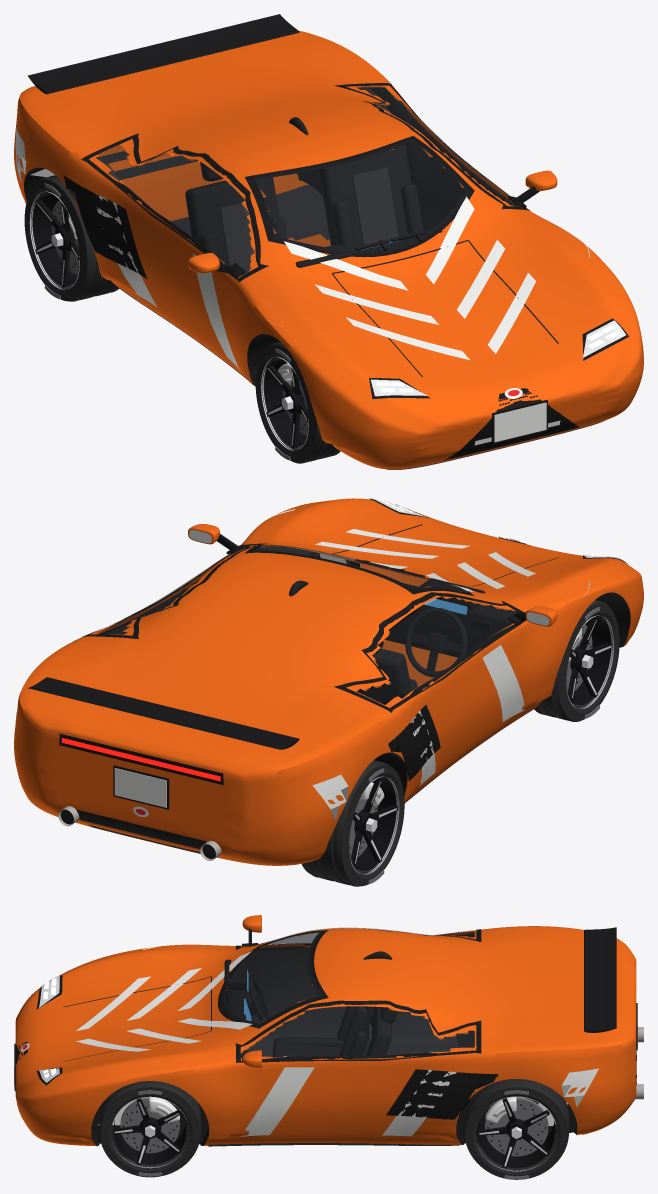
The model's file is kitsune.glb.
3 renders of one model, top to bottom at view 1: azimuth 30°, elevation 25°; view 2: azimuth 150°, elevation 25°; view 3: azimuth 270°, elevation 25°, orthographic. The views are drawn at different scales.
Visible parts, largest first — view 1: Body, Wheel_RR, Wheel_FR; view 2: Body, Wheel_RR, Wheel_FR; view 3: Body, Wheel_RL, Wheel_FL, Caliper_RL, Caliper_FL.
Part boxes in pixels (x1,y1,x2,y2): Body: (14, 14, 643, 469); Wheel_RR: (24, 175, 119, 301); Wheel_FR: (255, 341, 340, 463); Body: (14, 498, 643, 865); Wheel_RR: (301, 760, 404, 886); Wheel_FR: (534, 600, 619, 721); Body: (14, 915, 643, 1146); Wheel_RL: (464, 1079, 568, 1179); Wheel_FL: (99, 1081, 200, 1177); Caliper_RL: (485, 1097, 516, 1123); Caliper_FL: (149, 1097, 179, 1123).
Bounding box in the file's own units: 2.31 × 1.22 × 4.21.
